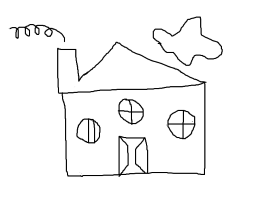closed_window: (164, 107, 199, 142), (73, 114, 105, 147), (113, 95, 147, 125)
clouds: (148, 10, 224, 72)
door: (110, 132, 153, 180)
roof: (46, 39, 209, 95)
smoking_chimney: (6, 18, 88, 95)
wall: (56, 79, 212, 179)
